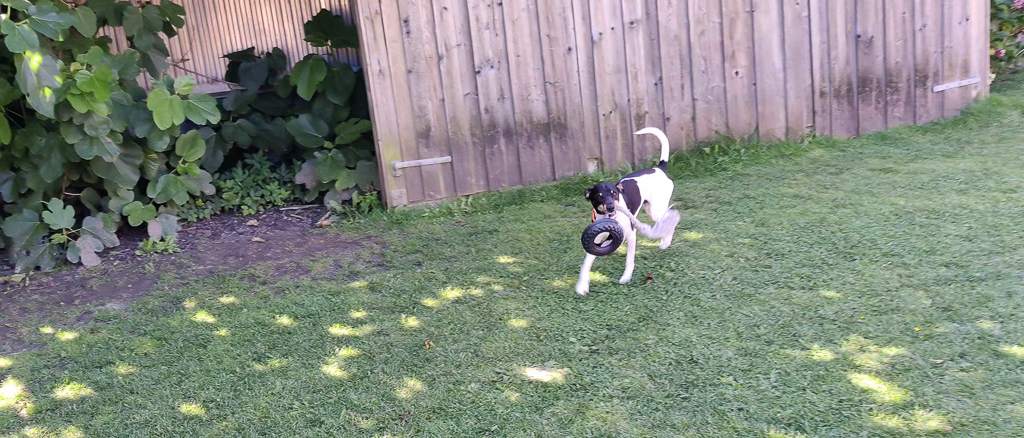Dog: (563, 119, 683, 302)
